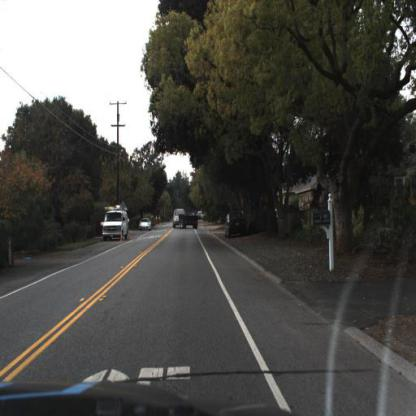car: (101, 206, 129, 243), (223, 211, 249, 243), (172, 209, 199, 233), (138, 217, 154, 234)
pedestrian: (117, 149, 127, 167)
